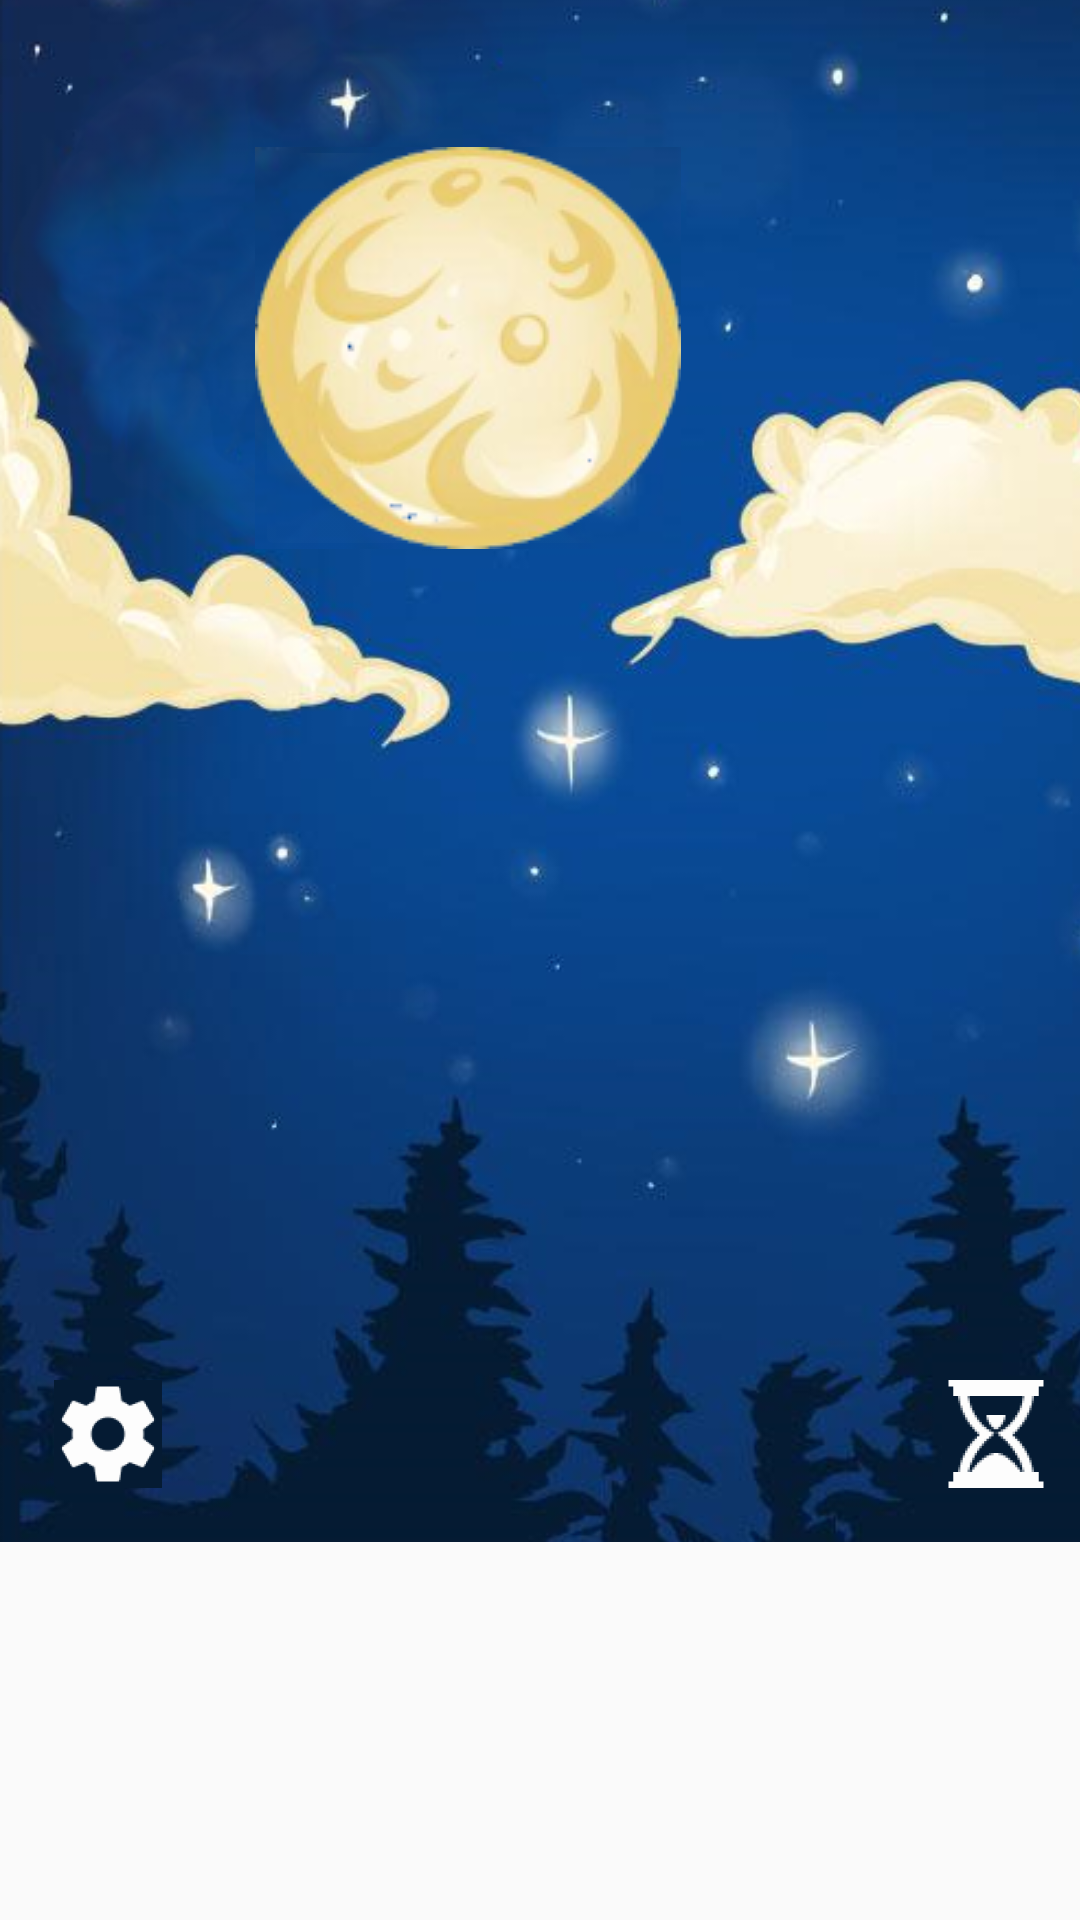

Screen size 1080px x 1920px. Icon name, then its box in pixels as (x1, y1, x2, y2):
settings: (61, 1386, 154, 1482)
